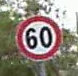limite 60: (15, 14, 63, 61)
